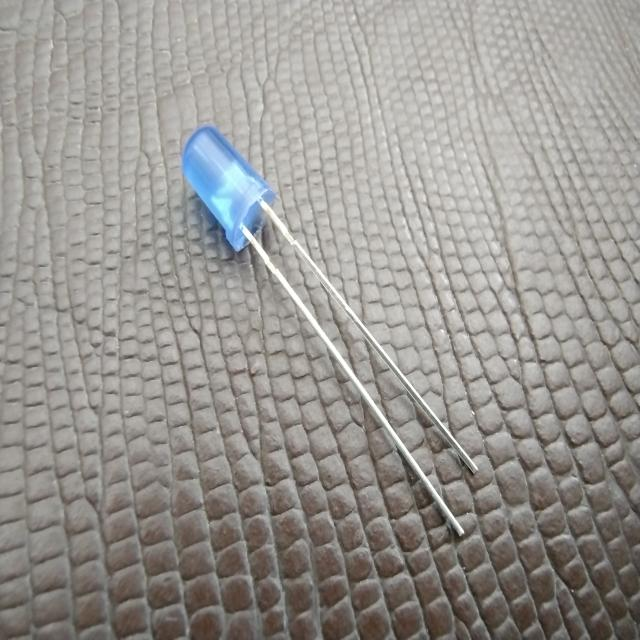blue_led: (180, 123, 276, 253)
